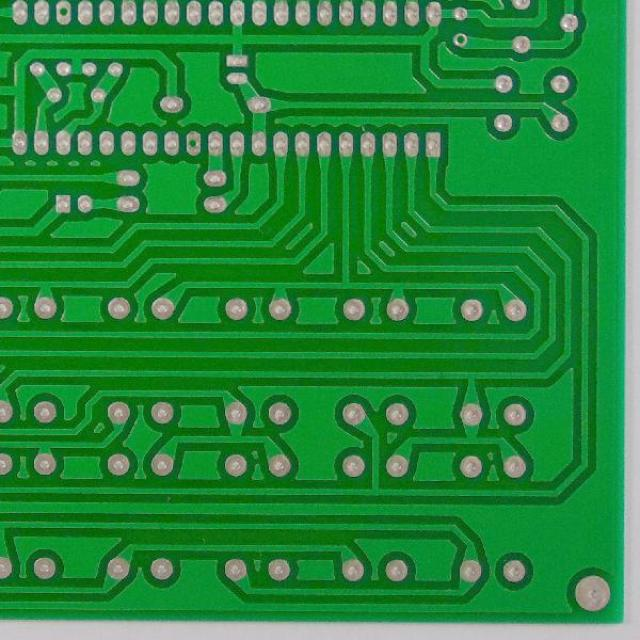Missing_Hole: (182, 130, 204, 157), (53, 0, 74, 25), (452, 31, 469, 48)
